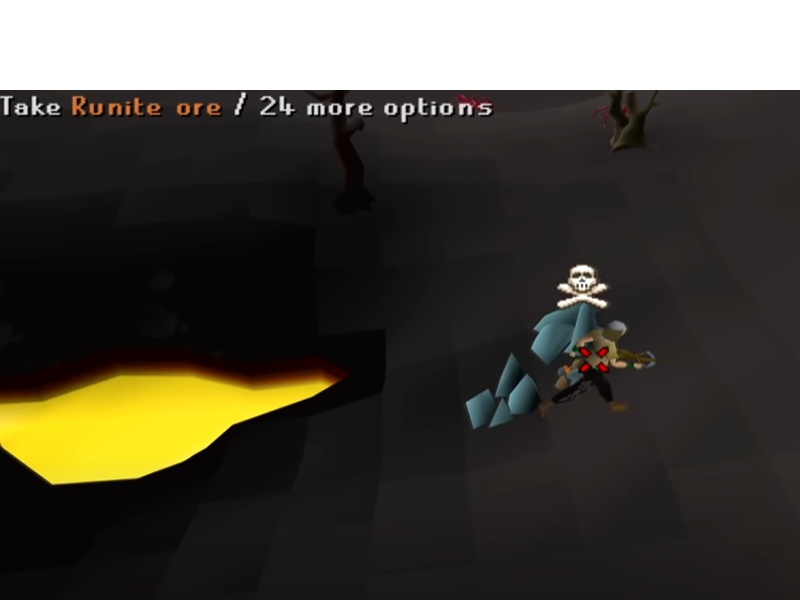rune: (459, 351, 546, 432), (527, 292, 601, 363)
